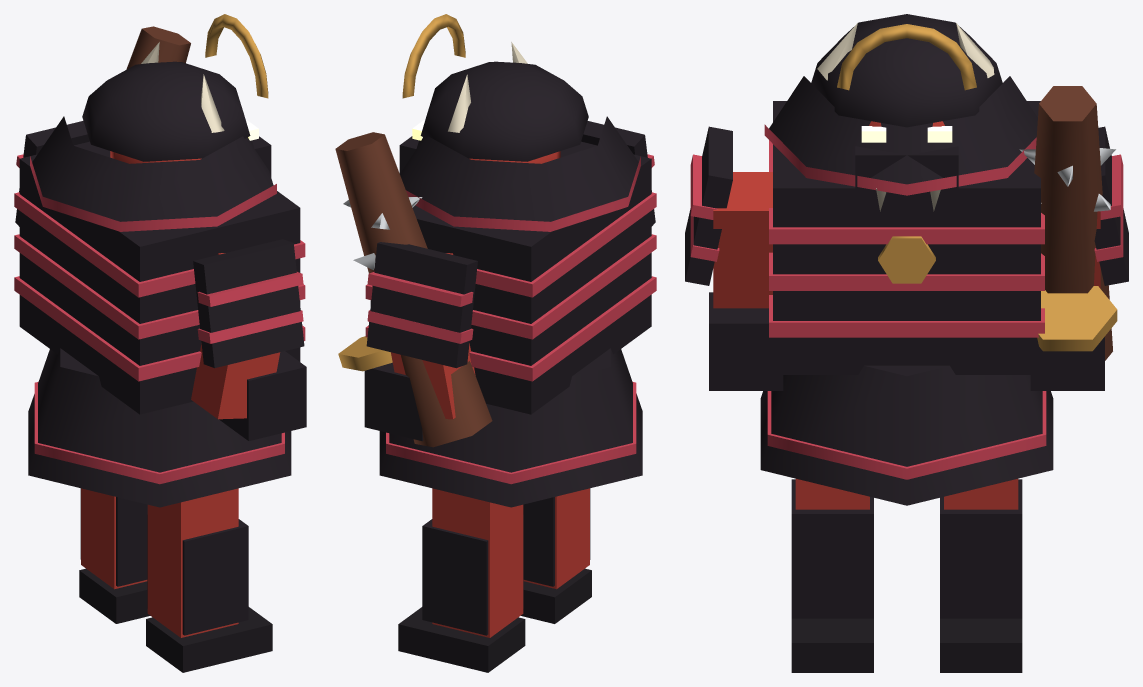
File: enemy_armored.glb
3 renders of one model, left to right at view 1: azimuth 30°, elevation 25°; view 2: azimuth 150°, elevation 25°; view 3: azimuth 270°, elevation 25°, orthographic. The views are drawn at different scales.
Parts seen in each view (by area): view 1: do, kusazuri, shikoro, kabuto, sode_l, leg_l_mesh, suneate_l, foot_l, kote_l, arm_l_mesh, kusazuri_lace, do_lace_2 (+12 smaller); view 2: do, kusazuri, shikoro, kabuto, kanabo, sode_r, leg_r_mesh, suneate_r, foot_r, kote_r, kusazuri_lace, do_lace_1 (+13 smaller); view 3: do, kusazuri, shikoro, kabuto, kanabo, suneate_l, suneate_r, arm_l_mesh, kote_l, do_lace_2, do_lace_0, foot_l (+17 smaller).
Boxes of the visible parts, box(x1,y1,x2,y2) form: do: box(19, 141, 300, 414); kusazuri: box(28, 348, 291, 507); shikoro: box(32, 116, 273, 221); kabuto: box(82, 61, 250, 161); sode_l: box(193, 239, 304, 368); leg_l_mesh: box(147, 488, 238, 637); suneate_l: box(147, 515, 248, 635); foot_l: box(146, 607, 272, 672); kote_l: box(219, 351, 306, 440); arm_l_mesh: box(191, 253, 280, 419); kusazuri_lace: box(34, 382, 284, 484); do_lace_2: box(14, 192, 305, 297); do: box(370, 141, 651, 414); kusazuri: box(379, 348, 642, 507); shikoro: box(400, 116, 638, 221); kabuto: box(420, 61, 588, 161); kanabo: box(335, 132, 492, 447); sode_r: box(366, 242, 477, 368); leg_r_mesh: box(432, 488, 523, 637); suneate_r: box(422, 515, 523, 635); foot_r: box(398, 607, 525, 672); kote_r: box(364, 362, 423, 441); kusazuri_lace: box(386, 381, 636, 484); do_lace_1: box(365, 234, 656, 339); do: box(773, 101, 1040, 374); kusazuri: box(760, 365, 1053, 505); shikoro: box(769, 76, 1037, 184); kabuto: box(811, 14, 1002, 127); kanabo: box(1034, 86, 1112, 360); suneate_l: box(791, 479, 873, 618); suneate_r: box(940, 479, 1022, 618); arm_l_mesh: box(713, 172, 772, 308); kote_l: box(709, 292, 783, 390); do_lace_2: box(769, 140, 1044, 244); do_lace_0: box(769, 295, 1044, 337); foot_l: box(791, 618, 873, 672).
Size of the model in its own units: 0.164 by 0.352 by 0.2153.
